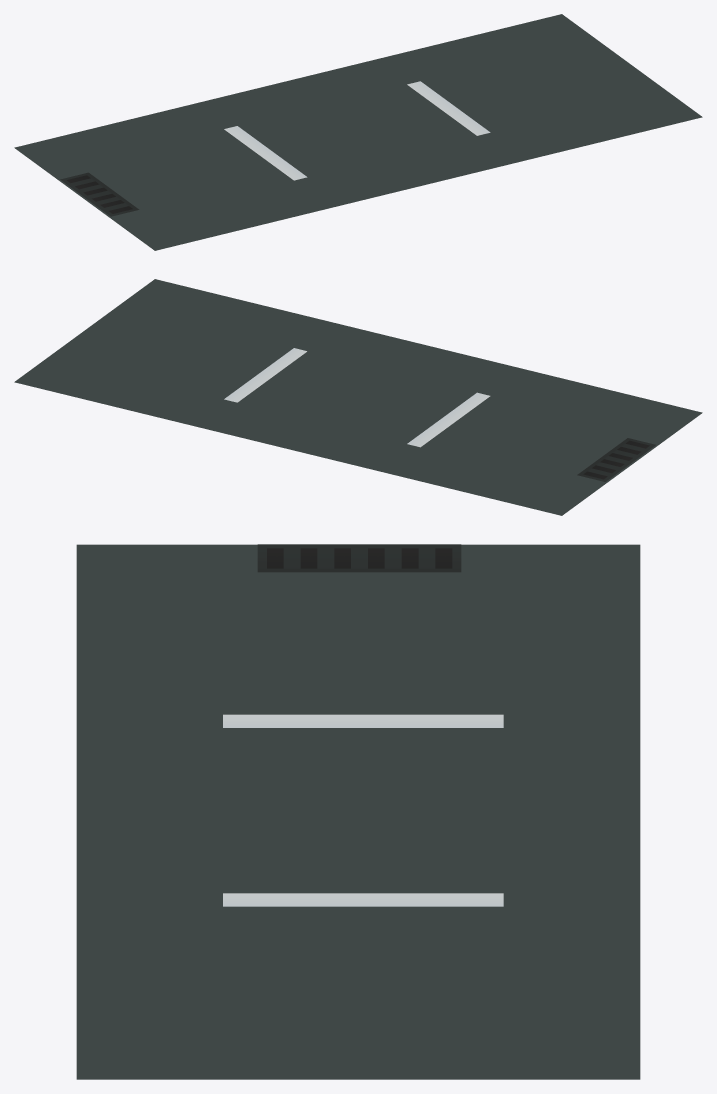
File: Road_2_305.fbx
3 renders of one model, top to bottom at view 1: azimuth 30°, elevation 25°; view 2: azimuth 150°, elevation 25°; view 3: azimuth 270°, elevation 25°, orthographic. The views are drawn at different scales.
Parts seen in each view (by area): view 1: Road_2_305; view 2: Road_2_305; view 3: Road_2_305.
Boxes of the visible parts, x1,y1,x2,y2 form: Road_2_305: [14, 14, 702, 250]; Road_2_305: [14, 279, 702, 515]; Road_2_305: [76, 544, 640, 1079].
Size of the model in its own units: 1351 by 1.66 by 602.
